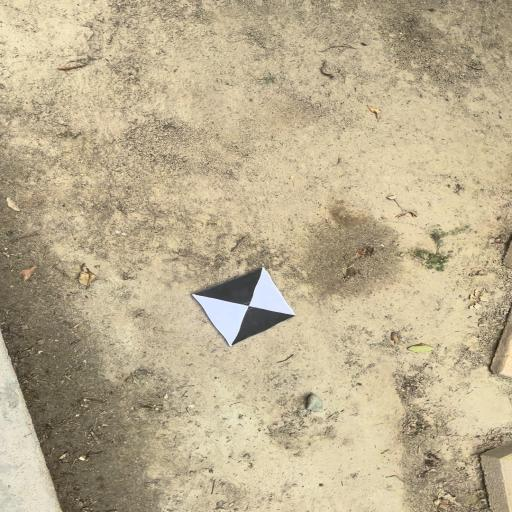target: (191, 267, 296, 345)
